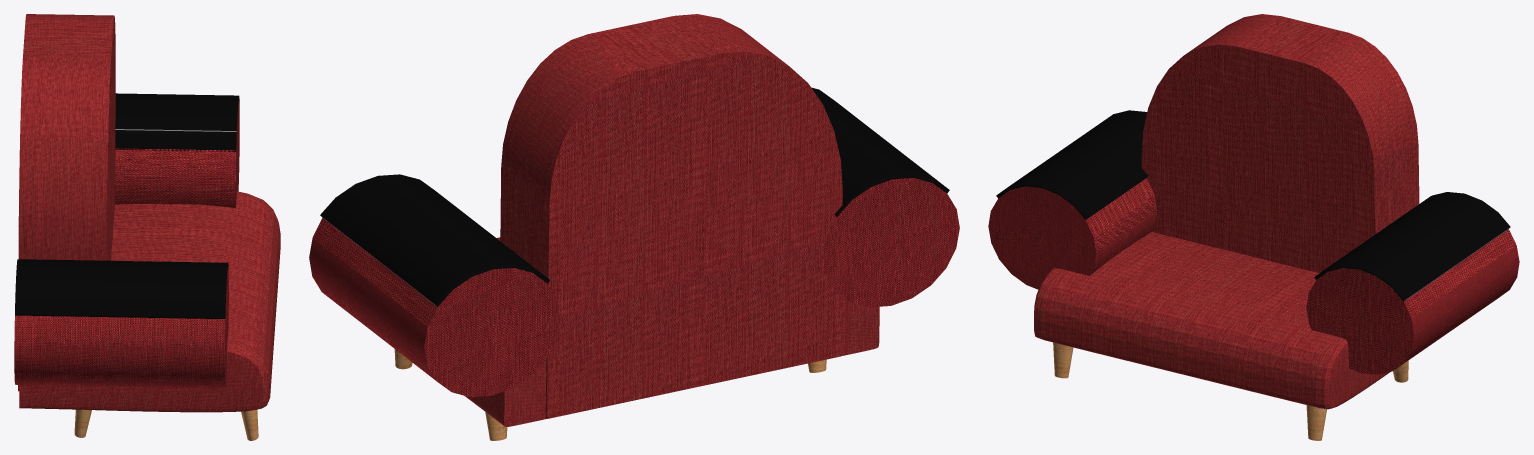
The model's file is armchair.obj.
3 renders of one model, left to right at view 1: azimuth 30°, elevation 25°; view 2: azimuth 150°, elevation 25°; view 3: azimuth 270°, elevation 25°, orthographic. The views are drawn at different scales.
Visible parts, largest first — view 1: Armchair:sofa_1_barispolySurface6polySurface4polySurface9polySur; view 2: Armchair:sofa_1_barispolySurface6polySurface4polySurface9polySur; view 3: Armchair:sofa_1_barispolySurface6polySurface4polySurface9polySur.
Part boxes in pixels (x1=…): Armchair:sofa_1_barispolySurface6polySurface4polySurface9polySur: x1=14, y1=14, x2=280, y2=440; Armchair:sofa_1_barispolySurface6polySurface4polySurface9polySur: x1=309, y1=14, x2=959, y2=440; Armchair:sofa_1_barispolySurface6polySurface4polySurface9polySur: x1=988, y1=14, x2=1519, y2=440.
Bounding box in the file's own units: 12.87 × 10.15 × 15.81.
Materials: 6 (4 with a texture image).
